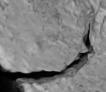crack: (1, 1, 106, 92)
